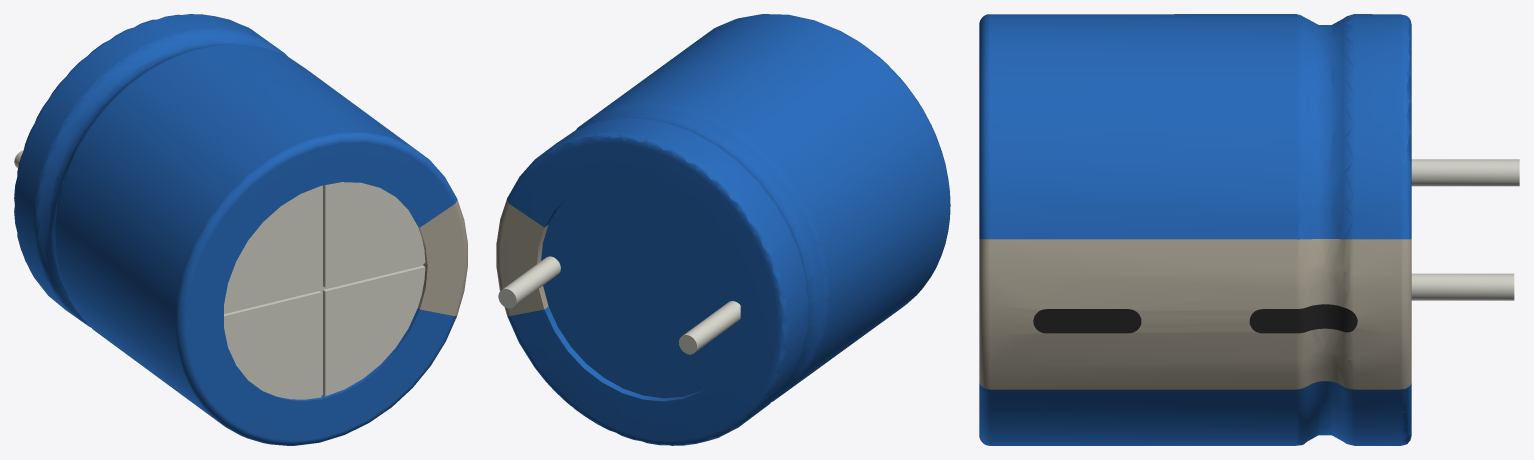
The model's file is cp-radial-d8.0-p5.00.glb.
3 renders of one model, left to right at view 1: azimuth 30°, elevation 25°; view 2: azimuth 150°, elevation 25°; view 3: azimuth 270°, elevation 25°, orthographic. The views are drawn at different scales.
Visible parts, largest first — view 1: PLASTIC-BLUE-01, PIN-01, IC-LABEL-01; view 2: PLASTIC-BLUE-01, IC-LABEL-01, PIN-01; view 3: PLASTIC-BLUE-01, IC-LABEL-01, PIN-01, IC-BODY-EPOXY-04.
Boxes of the visible parts, bbox=[...] form: PLASTIC-BLUE-01: bbox=[14, 14, 457, 445]; PIN-01: bbox=[14, 150, 425, 399]; IC-LABEL-01: bbox=[418, 199, 467, 315]; PLASTIC-BLUE-01: bbox=[507, 14, 950, 445]; IC-LABEL-01: bbox=[496, 199, 548, 316]; PIN-01: bbox=[498, 256, 740, 354]; PLASTIC-BLUE-01: bbox=[979, 14, 1411, 445]; IC-LABEL-01: bbox=[979, 239, 1411, 389]; PIN-01: bbox=[1411, 159, 1519, 300]; IC-BODY-EPOXY-04: bbox=[1033, 304, 1357, 333].
Bounding box in the file's own units: 8 × 8 × 10.
